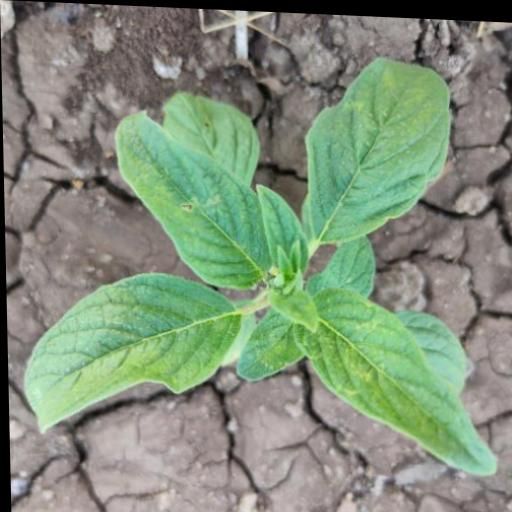crop: (13, 37, 497, 478)
